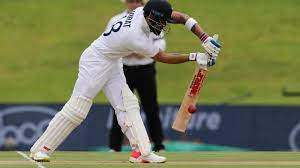bottom left: (167, 122, 178, 133)
bottom right: (182, 126, 190, 137)
top left: (192, 63, 202, 72)
top right: (205, 66, 215, 78)
